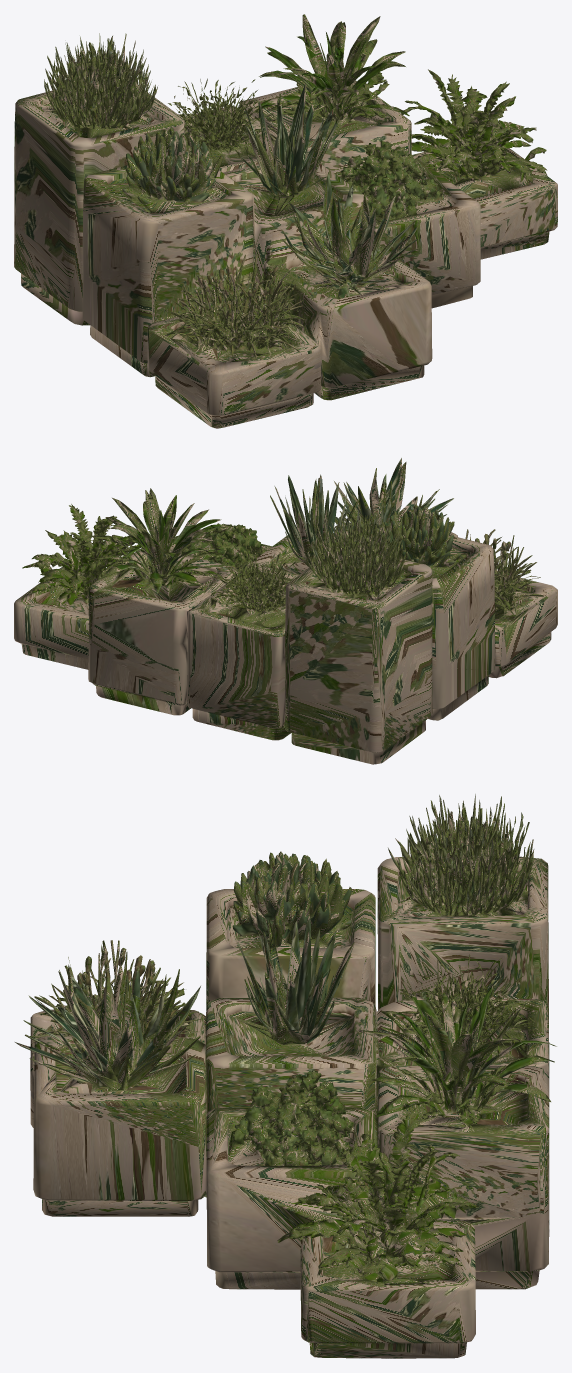
File: planters.glb
The picture shows the model from 3 angles, top to bottom: view 1: azimuth 30°, elevation 25°; view 2: azimuth 150°, elevation 25°; view 3: azimuth 270°, elevation 25°; orthographic projection. The views are drawn at different scales.
Size of the model in its own units: 1.91 by 0.9526 by 1.51.
Materials: 1 (1 with a texture image).
